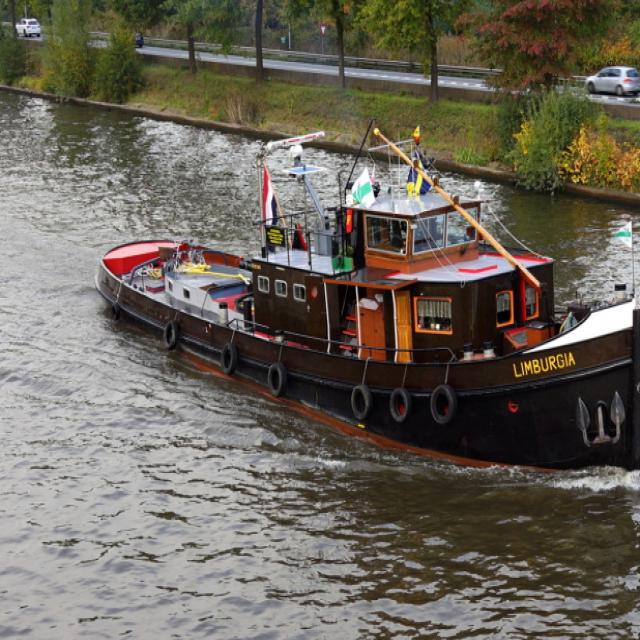tugboat: (92, 117, 640, 499)
